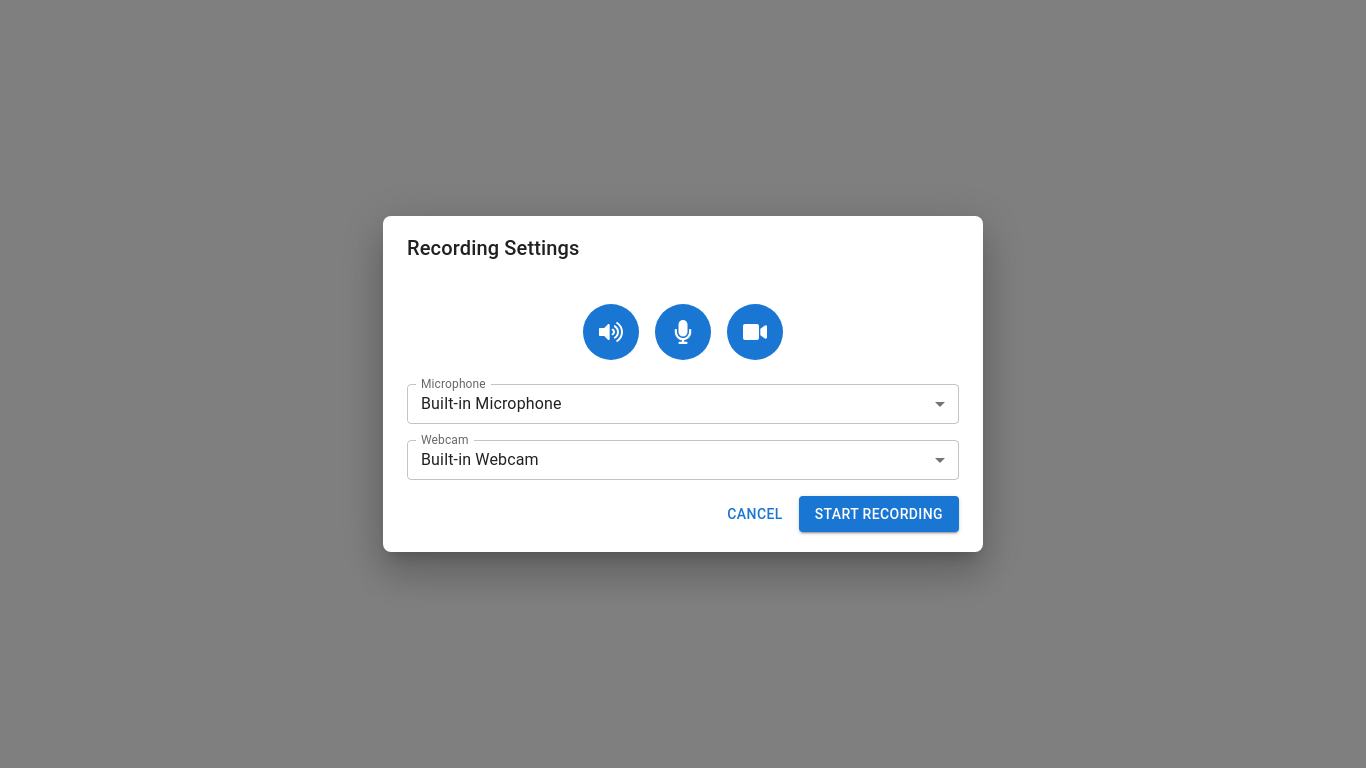
RecordingSettingsModal - Icons and Device Selection › icon button rendering › renders system audio icon button with tooltip
Hover over the button with test id "system-audio-toggle" at {"x": 611, "y": 332}, box 583,304 -> 639,360
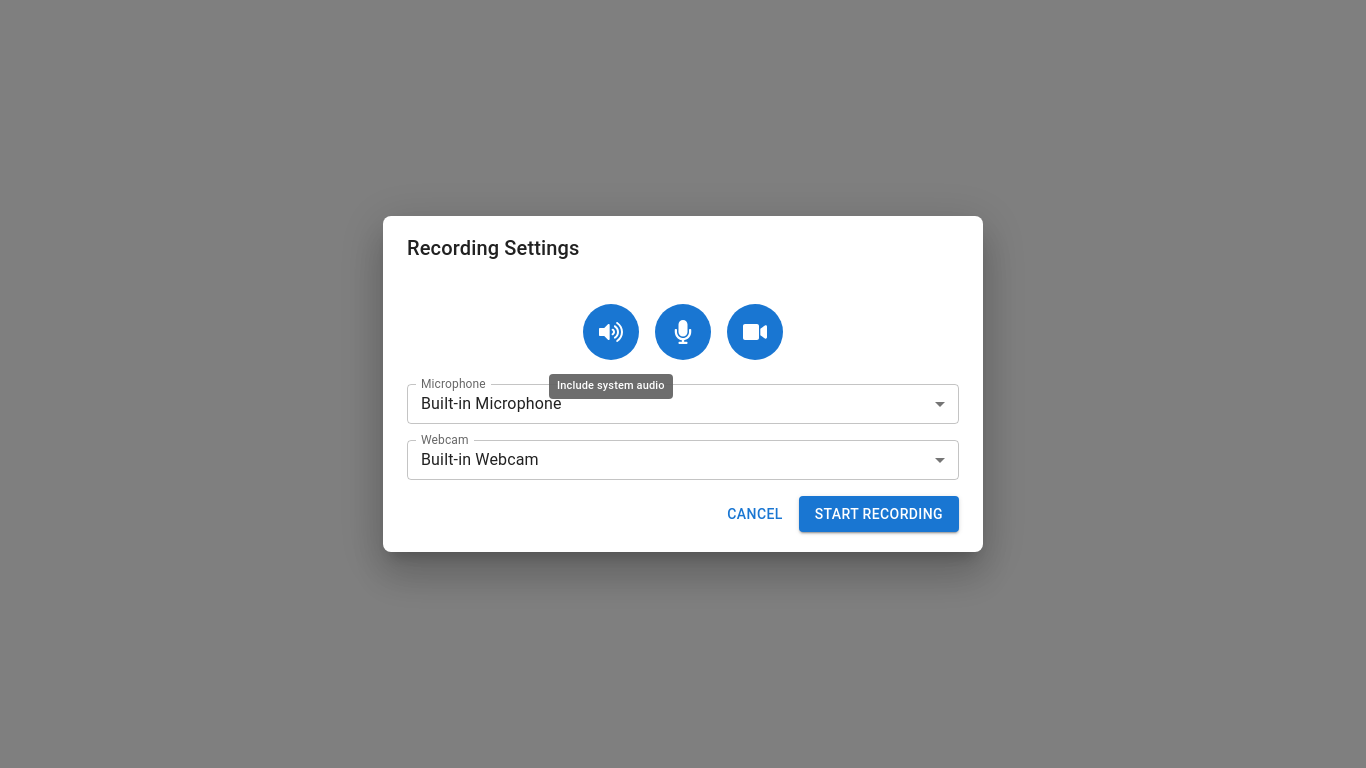
Now the tooltip shows "system audio", box 557,379 -> 665,392
